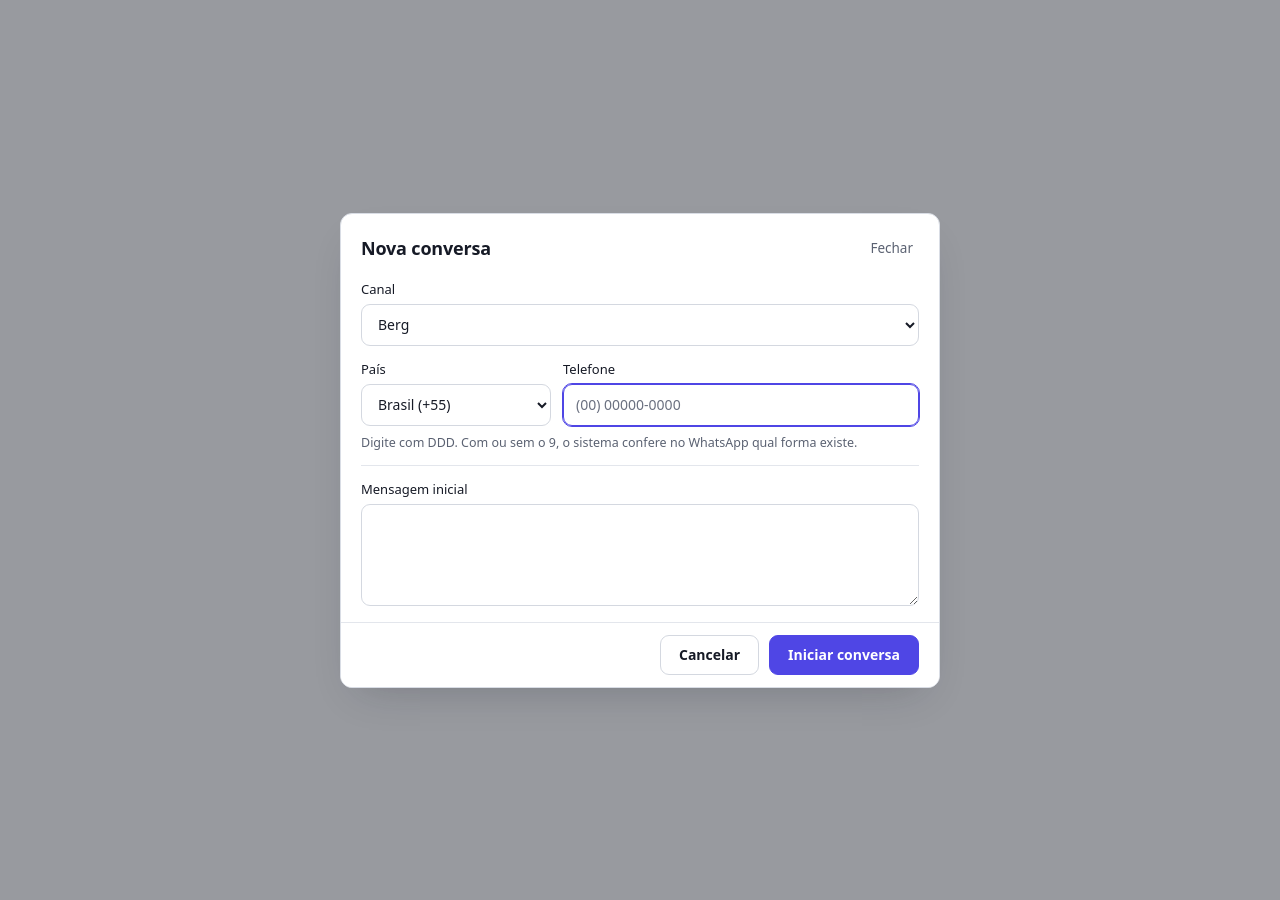
Test: StartConversationModal — o que acontece depois do template › mensagem vazia: erro na tela junto do campo, como o do telefone, e nada é enviado (A1-10)
The image size is (1280, 900).
Type "98999990000" into the field labelled "Telefone". click: (741, 404)
box: [563,384,919,426]
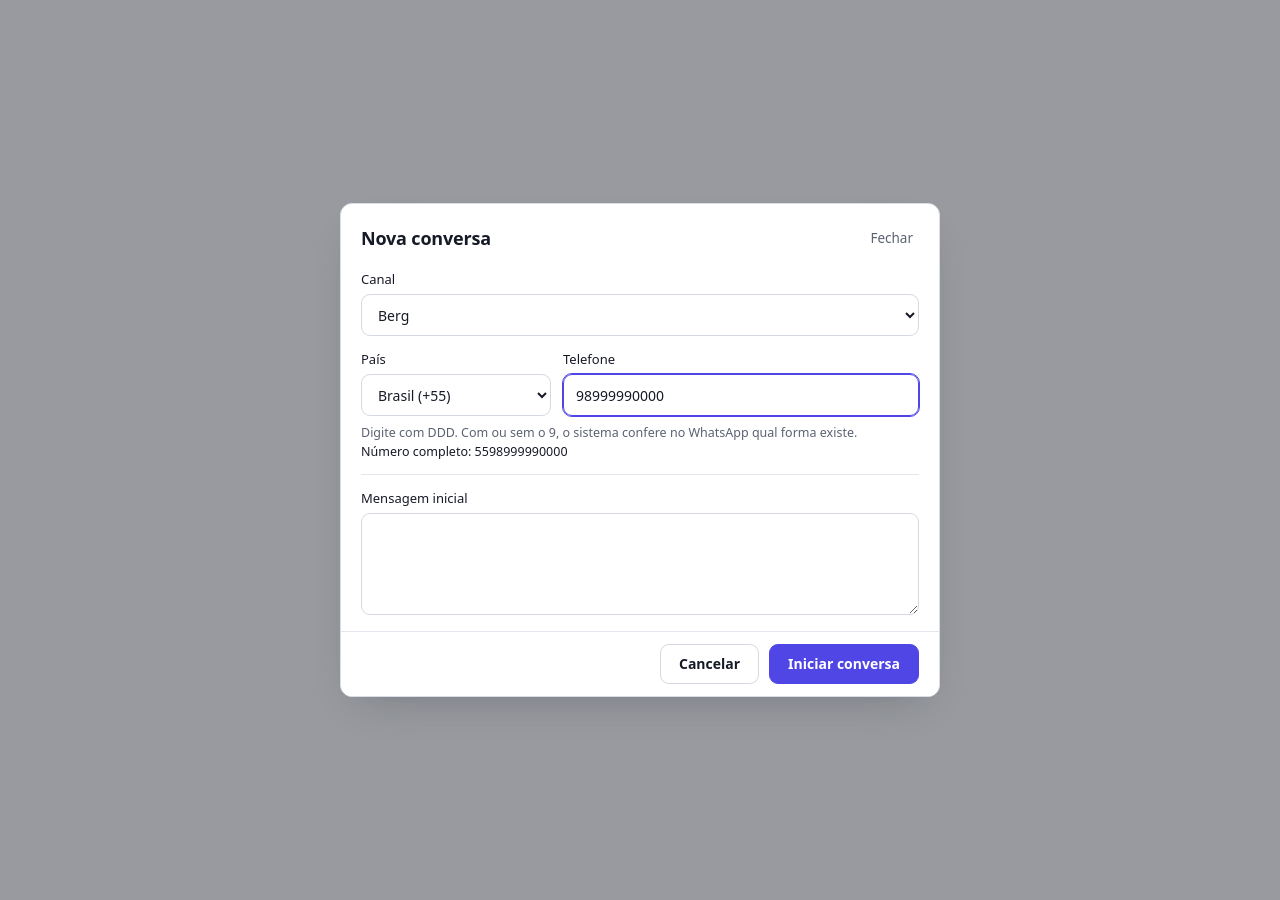
Click the button "Iniciar conversa". click: (844, 664)
box: [769,644,919,684]
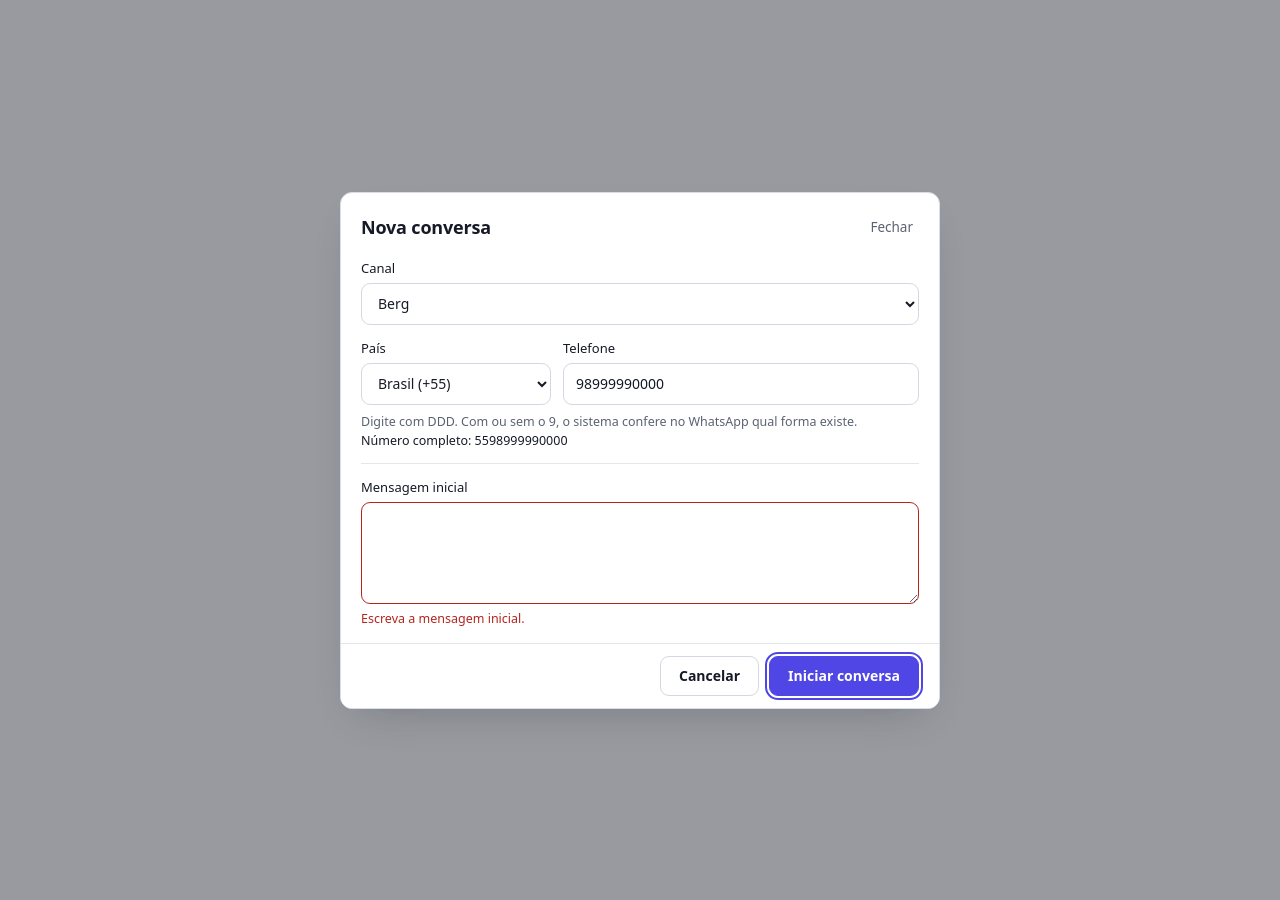
Check: the text "Escreva a mensagem inicial." is shown, box [361,610,525,626]
